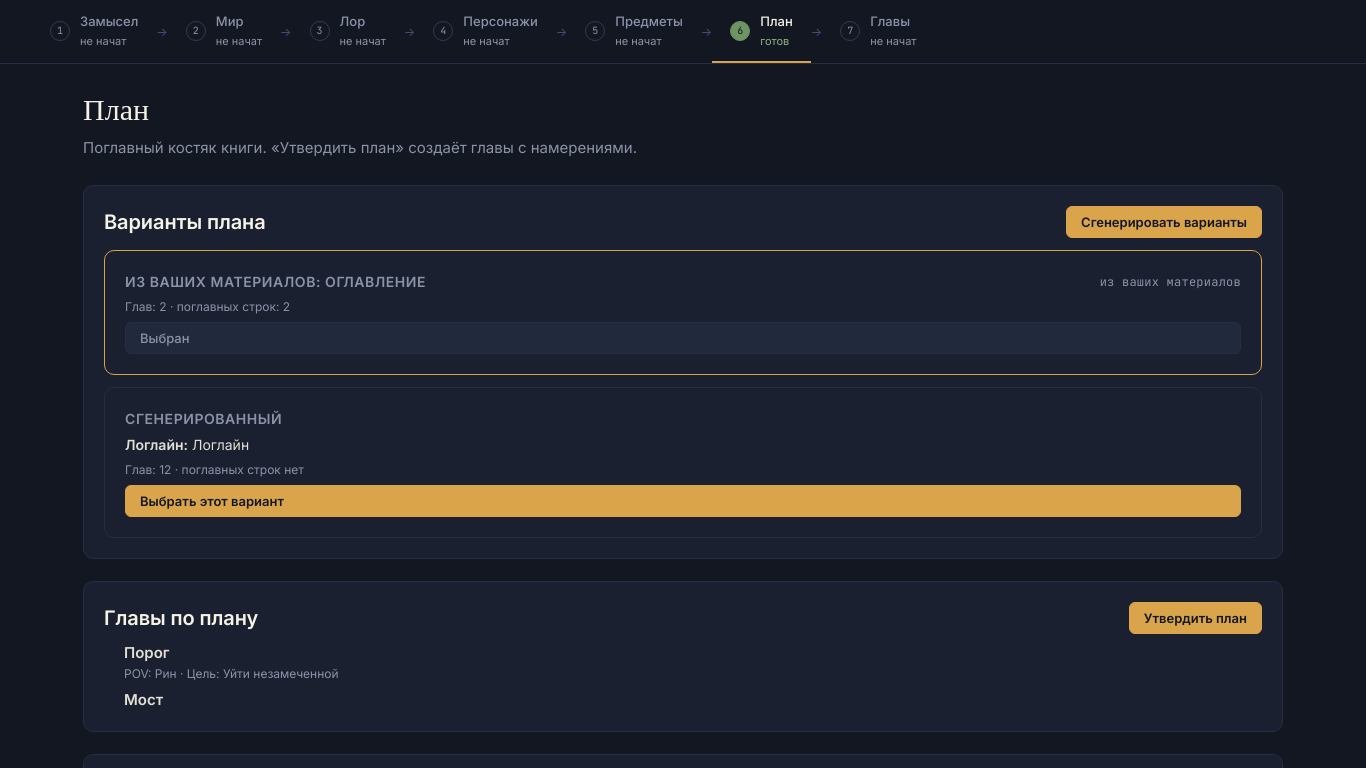
PlanStagePage › утверждает план и сообщает, сколько глав создано
Step 1. Click the button "Утвердить план" → (1195, 618), box 1129,602 -> 1262,634
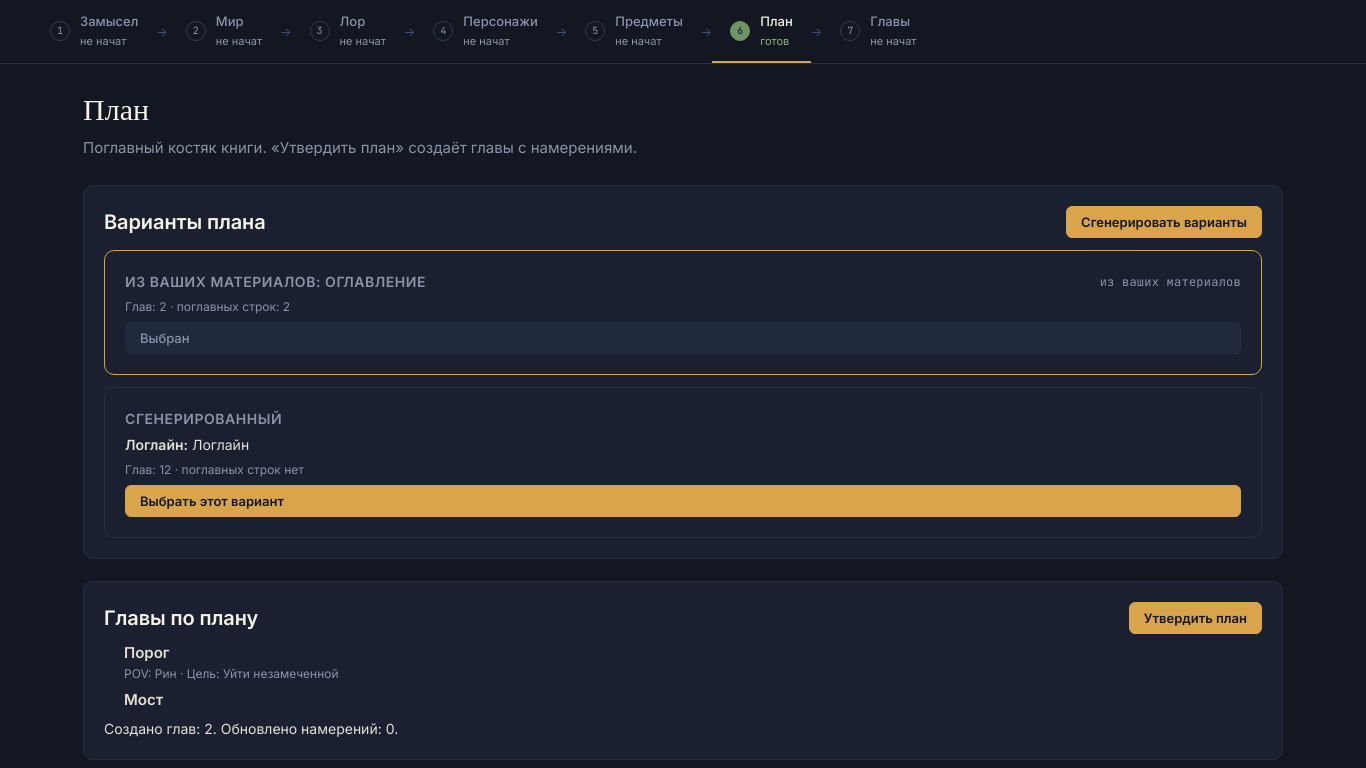
Now the text "Создано глав: 2. Обновлено намерений: 0." is shown, box 104,720 -> 398,737
